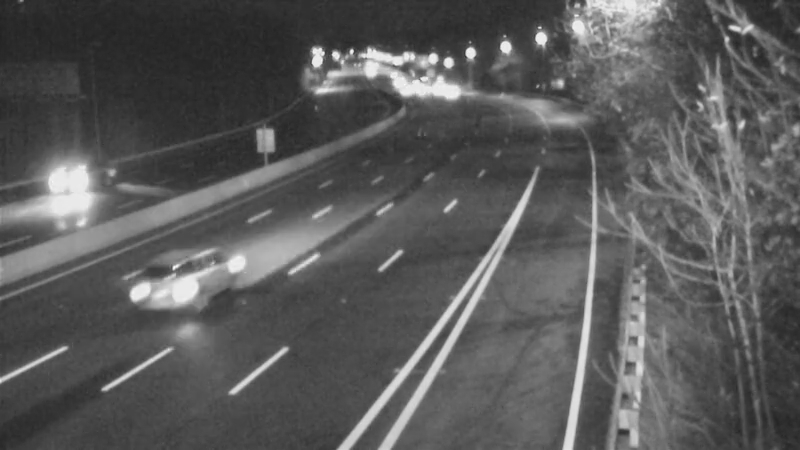vehicle: (120, 254, 200, 334), (21, 142, 101, 222), (423, 63, 473, 113)
